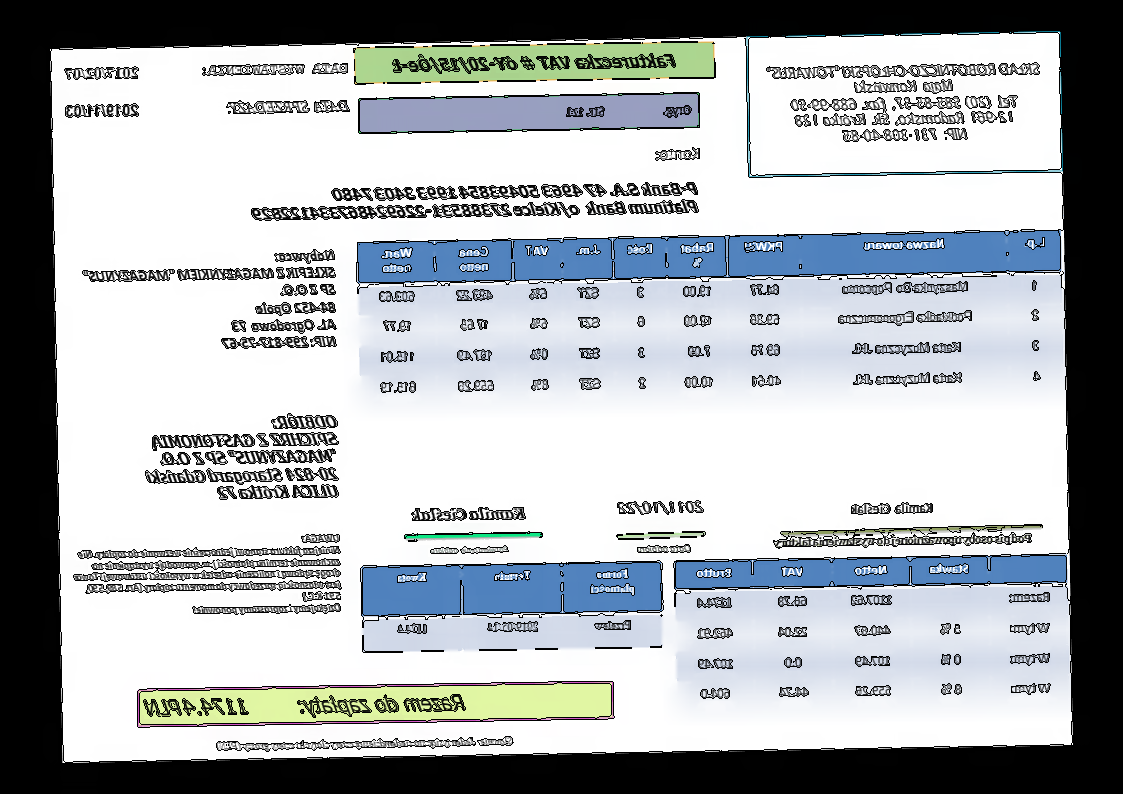Table: (357, 228, 1065, 407), (672, 553, 1071, 712), (361, 559, 664, 654)
TextBox: (81, 246, 339, 355), (69, 532, 343, 620), (764, 59, 1044, 145), (250, 179, 701, 223), (141, 413, 340, 503), (141, 688, 468, 721), (389, 49, 679, 78), (214, 732, 515, 754), (771, 529, 1035, 552), (200, 60, 352, 79), (565, 101, 694, 122), (224, 96, 351, 116), (408, 503, 527, 524), (615, 497, 705, 517), (63, 62, 141, 83), (64, 100, 141, 120), (849, 500, 936, 517), (429, 543, 511, 556), (654, 145, 704, 164), (637, 542, 693, 556)
